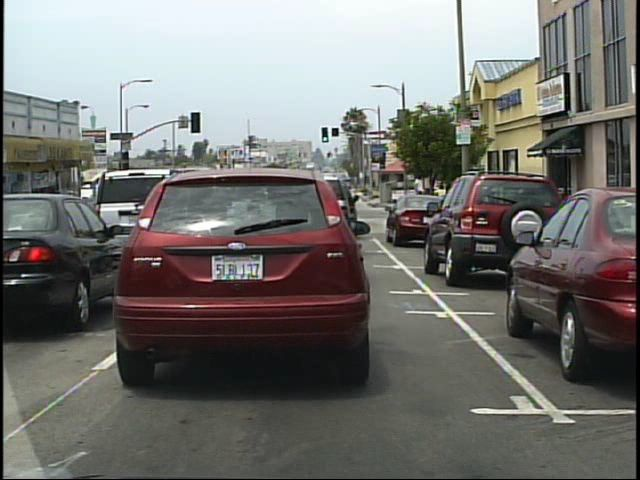person: (422, 188, 434, 223), (419, 190, 428, 222)
